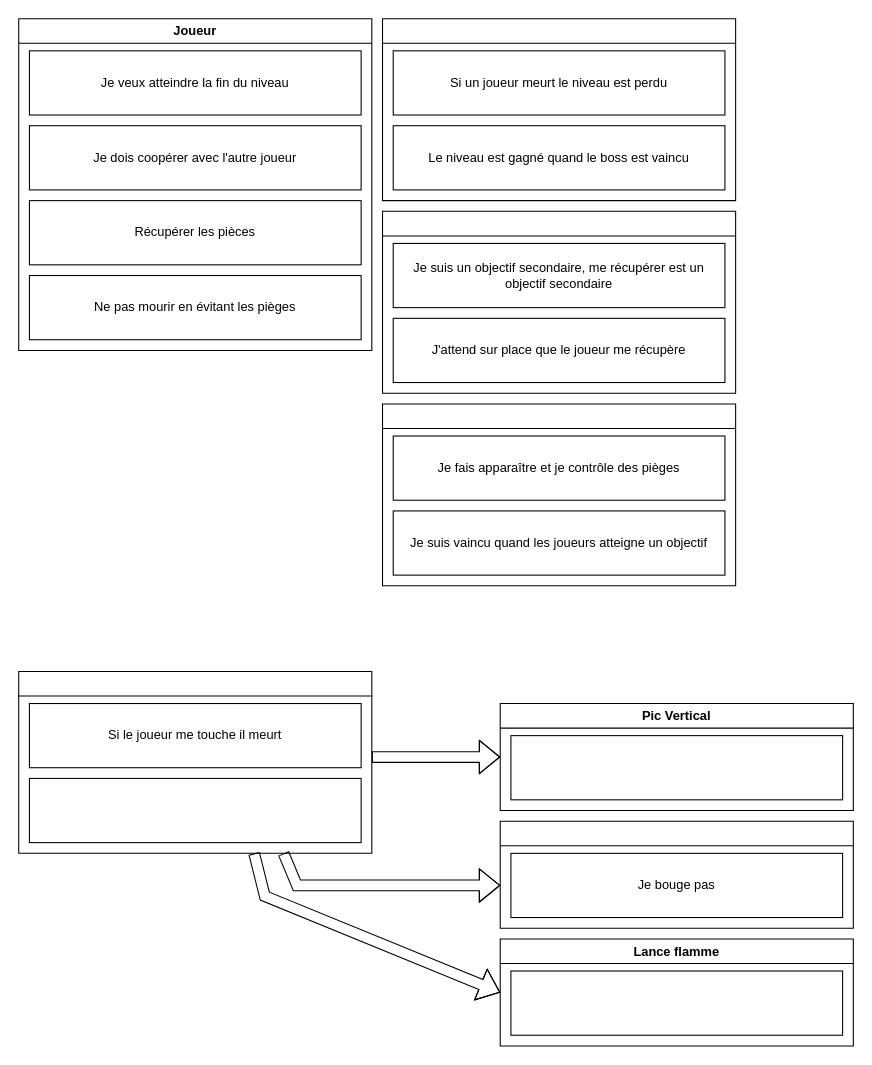
The diagram is 872 pixels wide and 1065 high, and some of its shapes have lost their labels. Each missing label, with the box of its shape:
Boss: (381, 403, 736, 586)
J'ai une seule action possible, me déployer puis me rétracter: (510, 735, 843, 800)
Je suis static ou j'ai des mouvements répéter: (28, 777, 361, 843)
Ma seule action est de lancer des flammes: (510, 970, 843, 1035)
Pic Statique: (499, 820, 853, 928)
Pièces: (381, 210, 736, 393)
Piège: (18, 670, 372, 853)
Règle: (381, 18, 736, 201)
